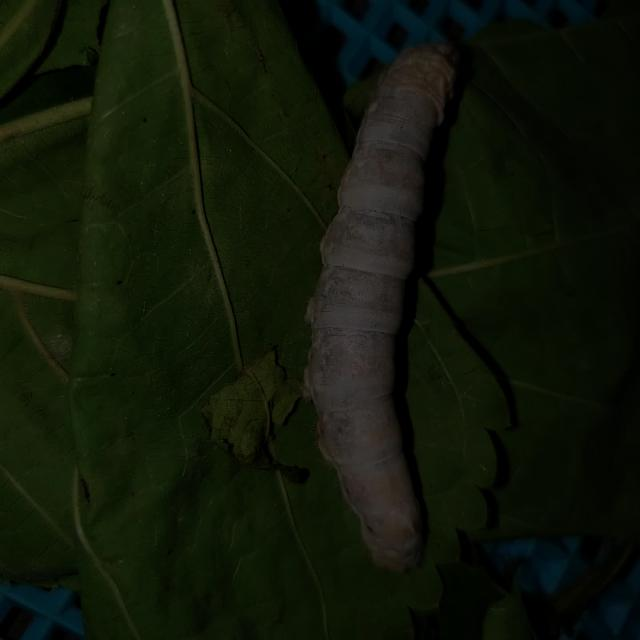Grasserie: (295, 14, 478, 586)
